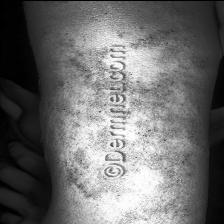Toxin: (64, 155, 92, 187), (188, 54, 212, 70), (40, 0, 68, 5)
